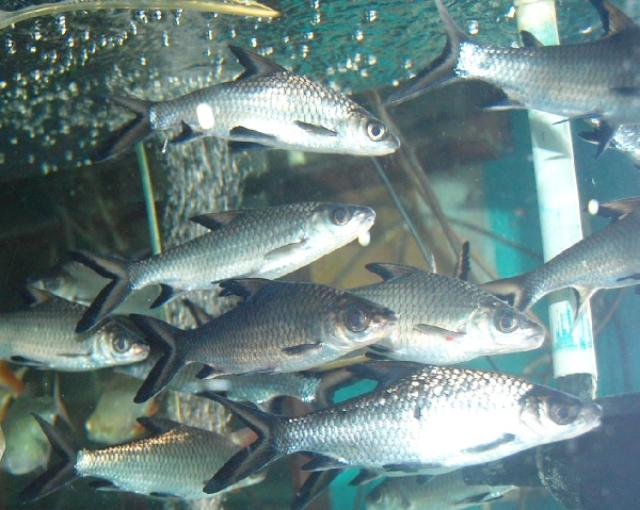Mulut: (564, 387, 618, 460), (344, 190, 388, 252), (359, 296, 407, 350), (508, 311, 560, 356), (364, 125, 414, 169)
Sirip Anal: (465, 79, 529, 129), (292, 440, 350, 486), (160, 107, 212, 155), (270, 326, 326, 366), (142, 273, 186, 317), (192, 358, 225, 390)
Sirip Dada: (454, 420, 524, 472), (260, 220, 318, 281), (404, 309, 474, 350), (284, 104, 344, 150)
Sirip Ekor: (366, 0, 479, 142), (189, 376, 281, 510), (80, 70, 156, 180), (58, 241, 138, 345), (9, 405, 78, 510), (120, 302, 182, 411)
Sirip Perut: (375, 455, 449, 487)
Sirip Punggung: (215, 20, 295, 86), (338, 342, 428, 400), (122, 398, 192, 448), (210, 268, 276, 312), (184, 197, 254, 238)
